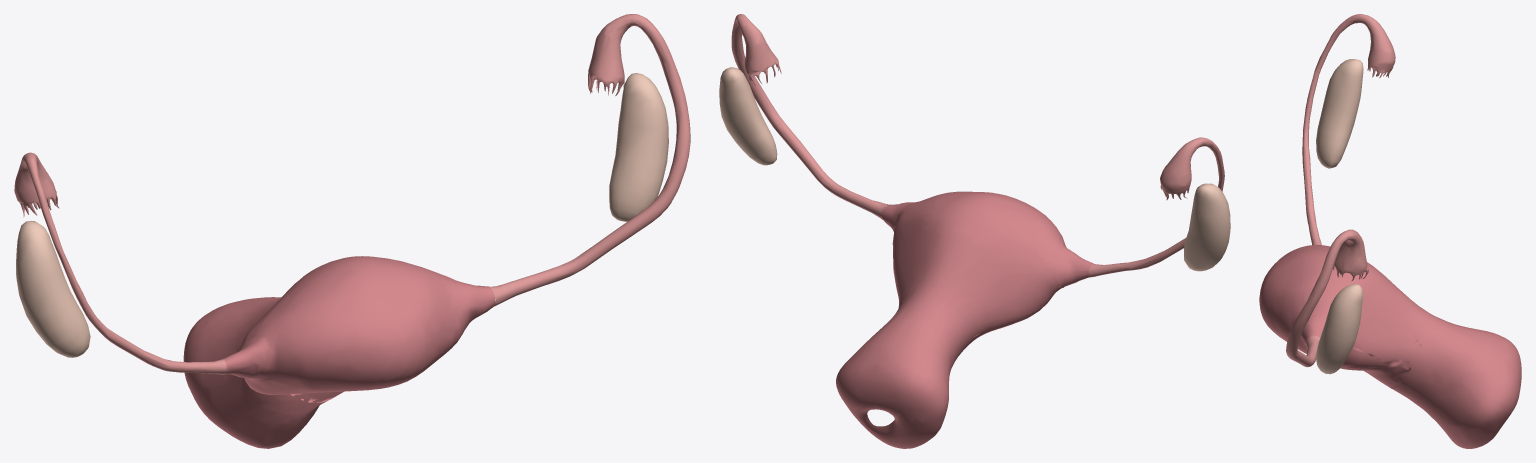
Rendered from uterus.mo.glb.
3 views of the same model, side by side, from view 1: azimuth 30°, elevation 25°; view 2: azimuth 150°, elevation 25°; view 3: azimuth 270°, elevation 25° (orthographic). The views are drawn at different scales.
Parts seen in each view (by area): view 1: Uterus, Ovaries, Fallopian_tubes; view 2: Uterus, Fallopian_tubes, Ovaries; view 3: Uterus, Fallopian_tubes, Ovaries.
Boxes of the visible parts, x1,y1,x2,y2 form: Uterus: [183, 256, 494, 448]; Ovaries: [16, 73, 668, 357]; Fallopian_tubes: [14, 14, 690, 374]; Uterus: [836, 191, 1093, 448]; Fallopian_tubes: [731, 14, 1224, 277]; Ovaries: [719, 67, 1230, 271]; Uterus: [1259, 244, 1521, 448]; Fallopian_tubes: [1286, 14, 1395, 367]; Ovaries: [1316, 59, 1363, 374].
Bounding box in the file's own units: 2 × 1.24 × 0.9214.
